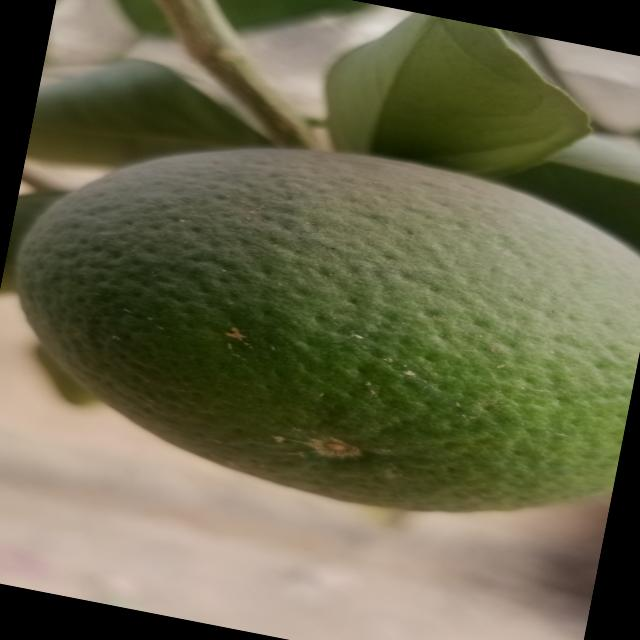Unripe: (4, 95, 640, 554)
